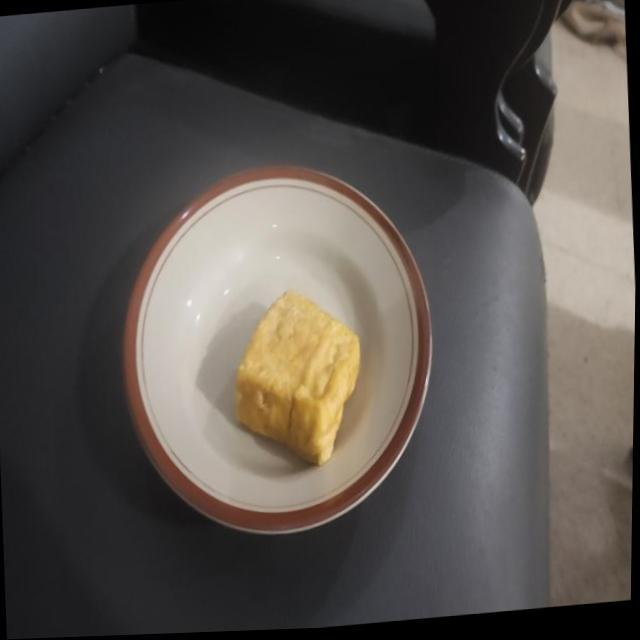tahu_goreng: (236, 291, 360, 465)
